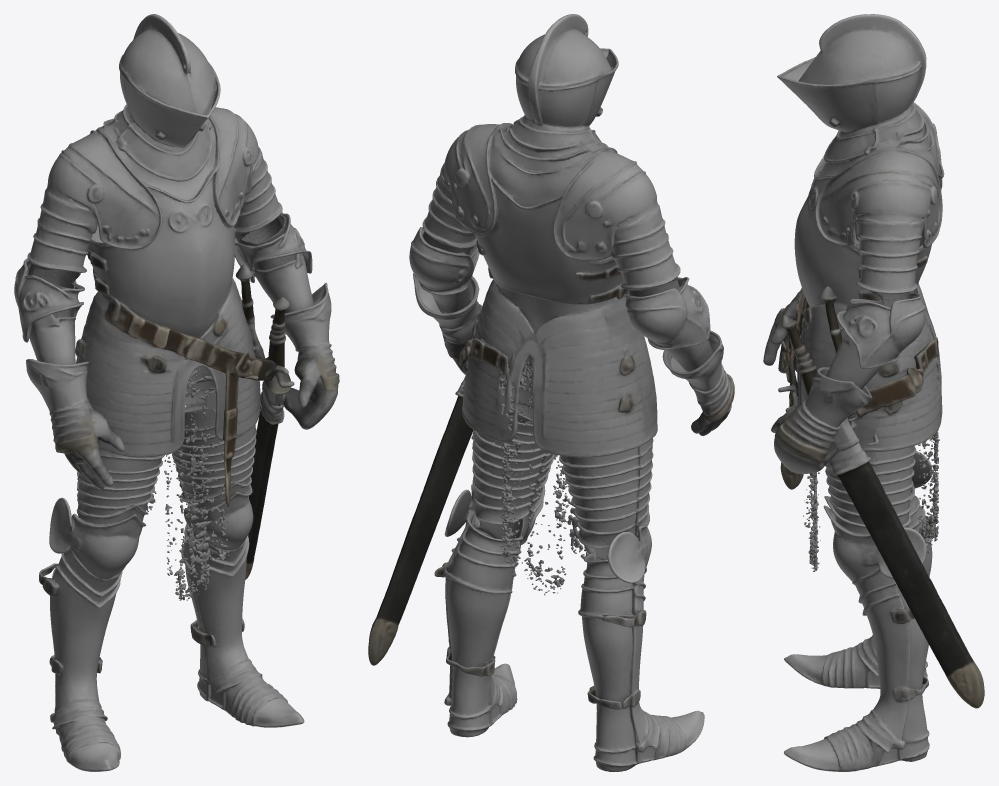
The model's file is TC004_Trellis 2.glb.
The picture shows the model from 3 angles, left to right: view 1: azimuth 30°, elevation 25°; view 2: azimuth 150°, elevation 25°; view 3: azimuth 270°, elevation 25°; orthographic projection.
Parts seen in each view (by area): view 1: world; view 2: world; view 3: world.
Part boxes in pixels (x1,y1,x2,y2): world: (14, 14, 339, 771); world: (368, 14, 734, 771); world: (763, 14, 984, 771).
Bounding box in the file's own units: 0.4464 × 1 × 0.2846.
Materials: 1 (1 with a texture image).
